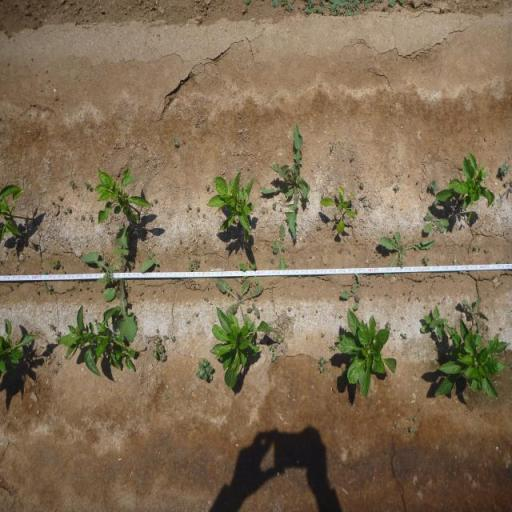plant: (432, 315, 511, 410), (60, 303, 139, 380), (336, 308, 398, 406), (209, 305, 277, 390), (435, 149, 498, 224), (94, 164, 152, 226), (209, 170, 257, 244), (0, 314, 40, 380), (0, 180, 37, 246), (320, 185, 360, 239)
weed: (81, 221, 140, 343), (258, 123, 312, 242), (374, 228, 438, 281), (214, 277, 264, 325), (302, 0, 363, 18), (420, 200, 450, 236), (420, 304, 446, 342), (462, 296, 489, 329), (272, 223, 290, 270), (340, 273, 362, 311), (138, 250, 160, 273), (238, 262, 260, 284), (196, 357, 214, 383), (152, 334, 166, 362), (247, 301, 261, 317), (316, 356, 328, 373), (186, 276, 200, 290), (498, 162, 510, 178), (280, 0, 296, 12), (427, 178, 438, 193), (420, 256, 430, 266), (63, 206, 72, 216), (84, 181, 93, 191), (364, 0, 373, 10), (172, 138, 180, 149), (270, 352, 278, 363), (277, 334, 284, 346), (49, 258, 58, 267), (47, 322, 55, 332), (45, 284, 53, 294), (70, 180, 78, 190), (328, 343, 336, 353), (384, 321, 392, 331), (194, 258, 201, 269), (269, 343, 277, 352), (474, 243, 483, 251), (187, 261, 194, 271), (400, 333, 408, 341), (361, 198, 367, 208), (392, 184, 400, 191), (54, 329, 60, 337), (171, 334, 177, 342), (272, 202, 278, 210), (164, 394, 170, 401), (408, 426, 414, 433), (80, 214, 86, 220), (34, 289, 40, 295), (138, 290, 144, 296), (186, 204, 192, 210), (502, 180, 508, 186), (384, 292, 390, 298), (412, 416, 418, 422), (129, 261, 134, 268), (329, 145, 334, 152), (89, 214, 93, 222), (163, 334, 168, 340), (205, 184, 210, 190), (484, 249, 490, 254), (338, 314, 344, 319), (42, 268, 46, 275), (270, 257, 274, 264), (54, 338, 58, 344), (58, 195, 62, 201), (154, 198, 158, 204), (196, 206, 200, 212), (360, 182, 364, 188), (350, 154, 354, 160), (56, 361, 60, 366), (156, 328, 160, 333), (415, 180, 420, 184), (84, 285, 88, 290), (322, 192, 324, 198), (63, 270, 66, 274), (402, 292, 406, 294)
